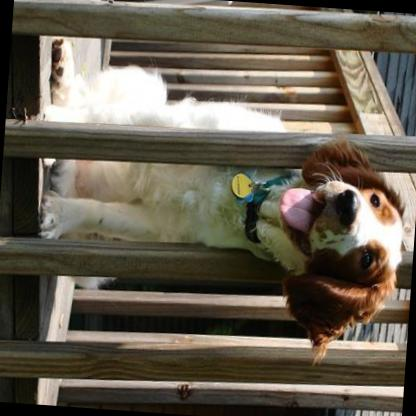Welsh_springer_spaniel: (20, 34, 416, 355)
